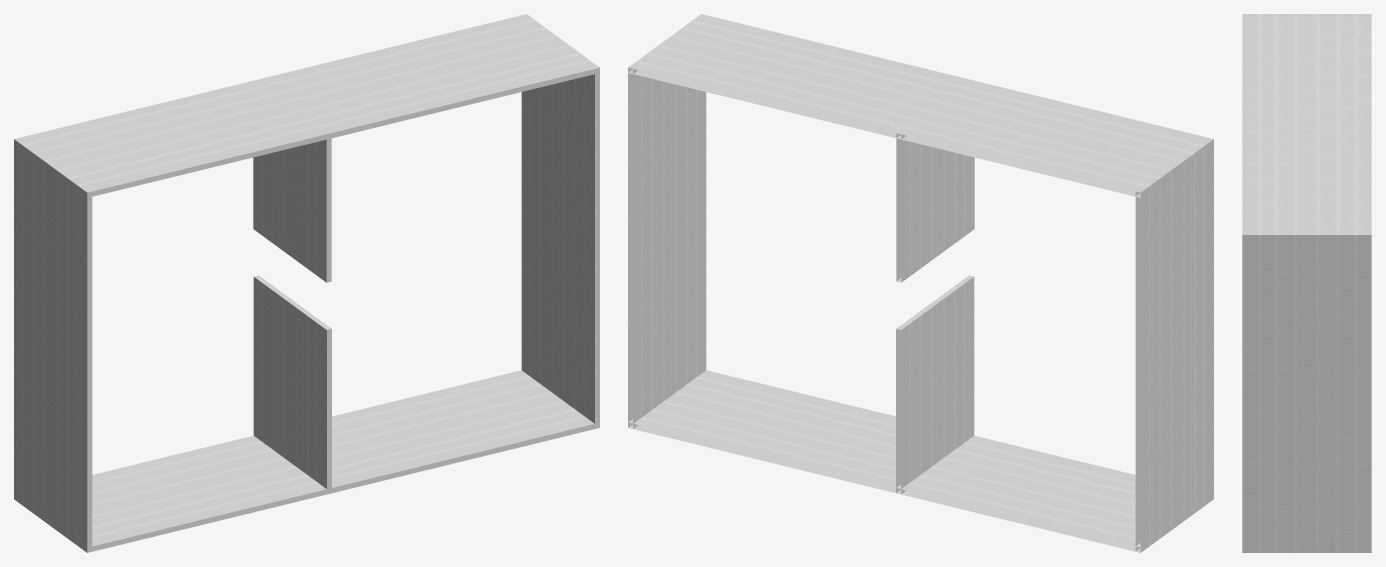
File: wall_1.obj
3 views of the same model, side by side, from view 1: azimuth 30°, elevation 25°; view 2: azimuth 150°, elevation 25°; view 3: azimuth 270°, elevation 25° (orthographic). The views are drawn at different scales.
Visible parts, largest first — view 1: walls; view 2: walls; view 3: walls.
Boxes of the visible parts, bbox=[...] form: walls: bbox=[14, 14, 599, 552]; walls: bbox=[628, 14, 1213, 552]; walls: bbox=[1242, 14, 1371, 552].
Bounding box in the file's own units: 10.1 × 6.78 × 2.5.
